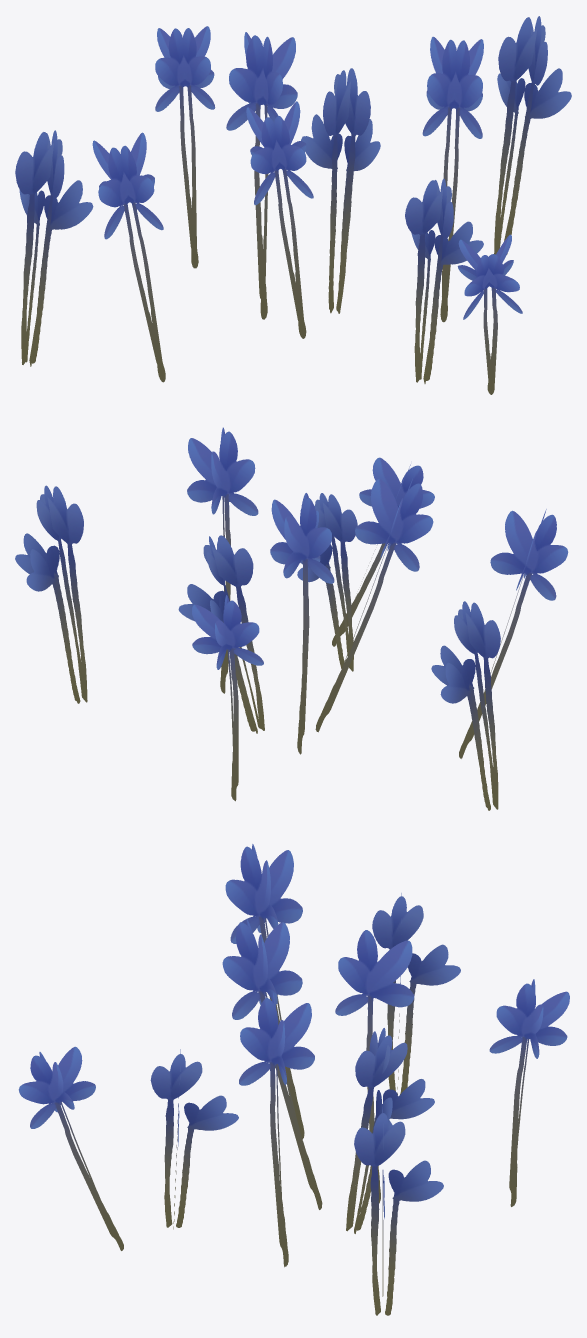
File: F_SandFlowerPack_A.FBX
3 renders of one model, top to bottom at view 1: azimuth 30°, elevation 25°; view 2: azimuth 150°, elevation 25°; view 3: azimuth 270°, elevation 25°, orthographic. The views are drawn at different scales.
Parts seen in each view (by area): view 1: F_SandFlowerPack_A; view 2: F_SandFlowerPack_A; view 3: F_SandFlowerPack_A.
Boxes of the visible parts, <box> form: F_SandFlowerPack_A: <box>15,16,571,394</box>; F_SandFlowerPack_A: <box>15,427,568,810</box>; F_SandFlowerPack_A: <box>18,844,569,1315</box>.
Bounding box in the file's own units: 103 × 51.95 × 94.14.
Materials: 1 (1 with a texture image).
